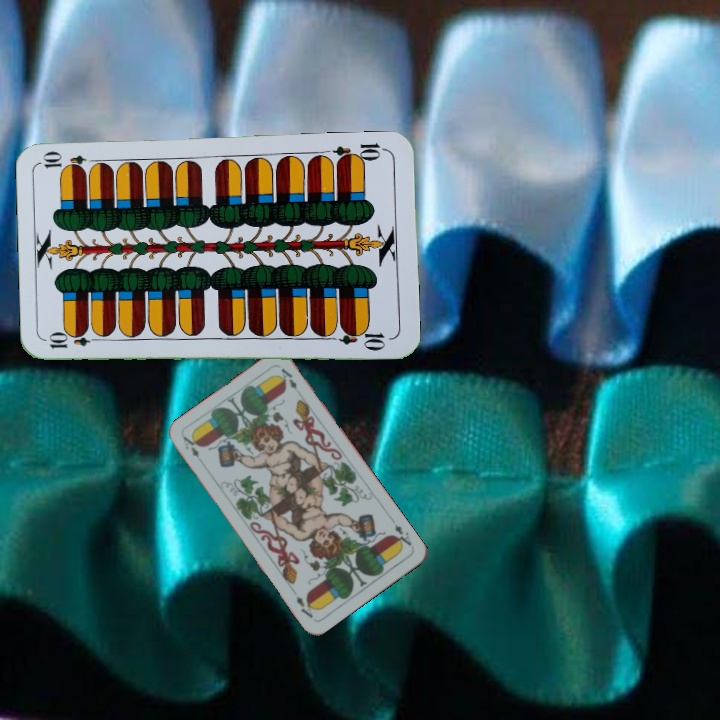E10: (330, 139, 389, 166), (45, 332, 104, 351)
EA: (389, 520, 414, 551), (179, 432, 202, 460)
